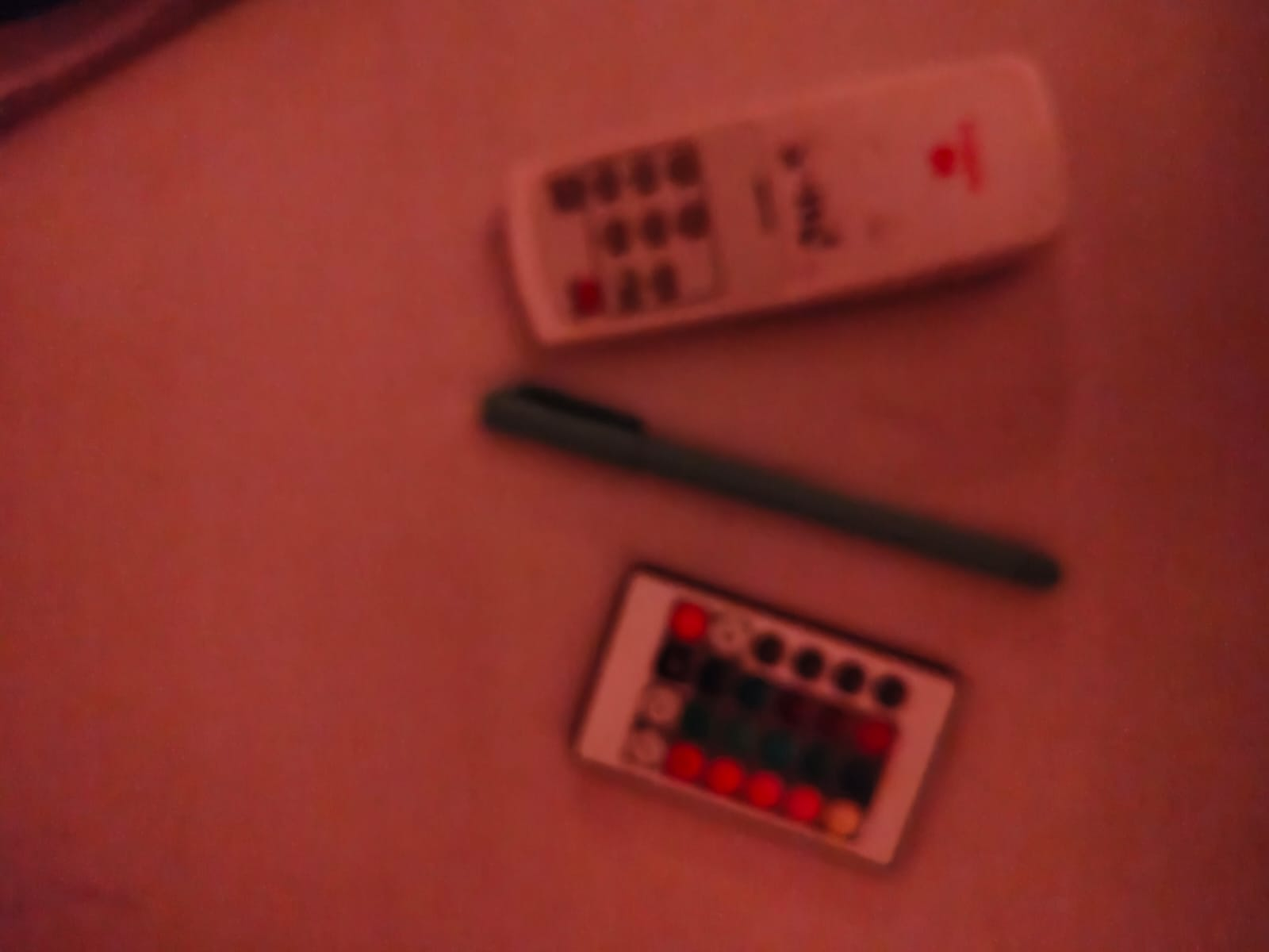pen: (468, 370, 1077, 609)
